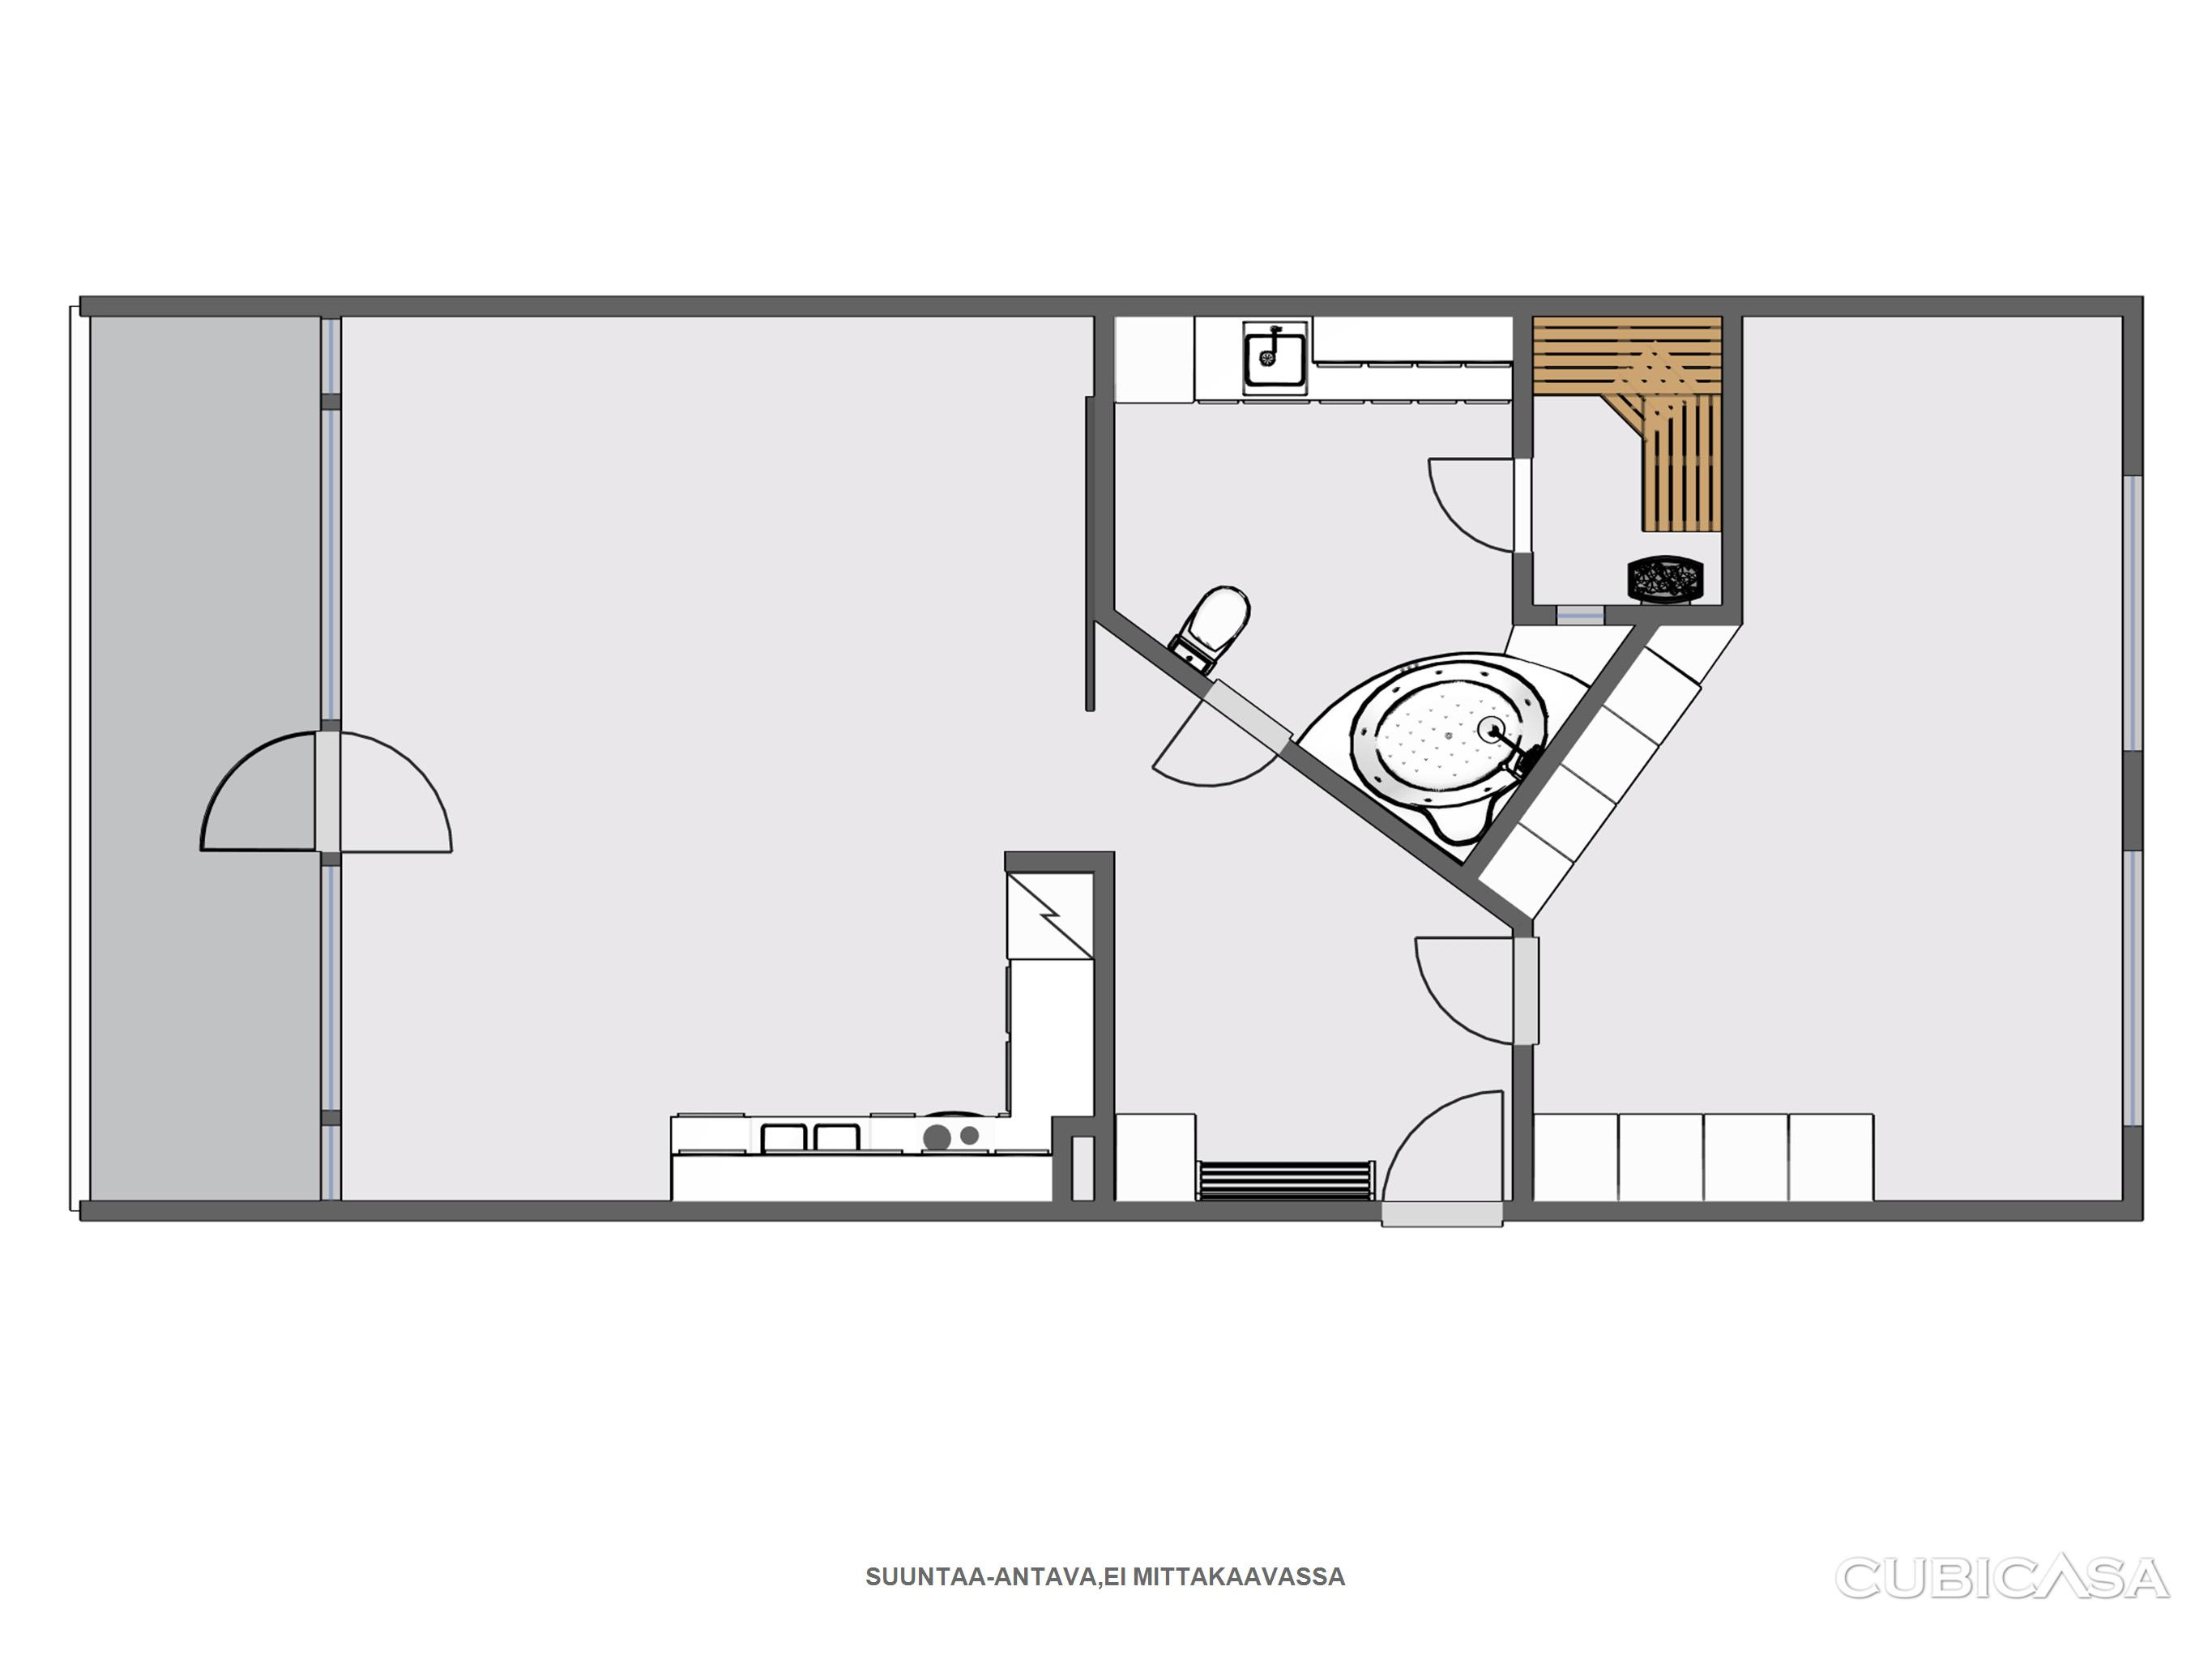bathroom: (1112, 310, 1611, 845)
door: (1368, 1084, 1517, 1239), (190, 725, 340, 863), (310, 728, 464, 863), (1147, 676, 1290, 800), (1407, 925, 1546, 1047), (1421, 448, 1539, 558)
perimeter: (309, 295, 2148, 1223)
window: (2114, 828, 2154, 1148), (312, 392, 349, 732), (2113, 457, 2151, 775), (307, 852, 352, 1121), (310, 301, 349, 406), (314, 1112, 347, 1211), (1546, 596, 1616, 633)
